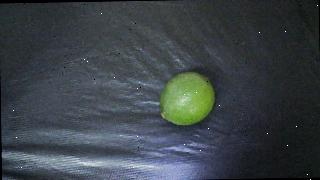LOCAL: (159, 71, 215, 125)
